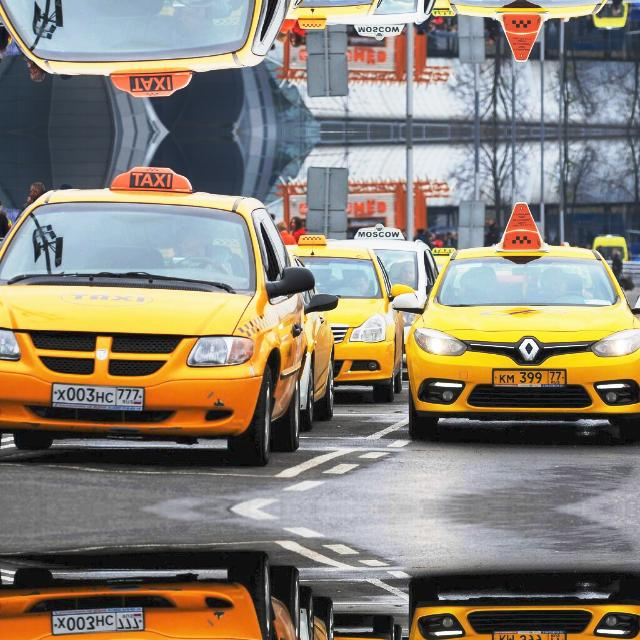citizen: (45, 379, 149, 415), (45, 602, 149, 638)
taxi: (489, 364, 569, 390), (489, 627, 569, 640)
